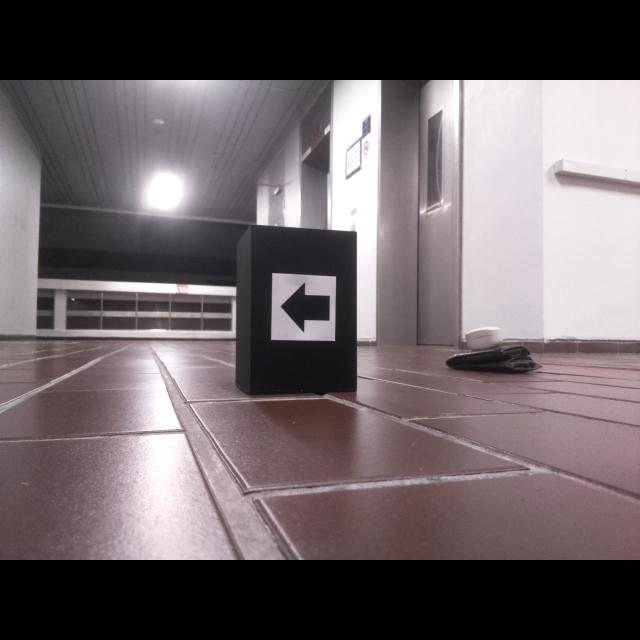LEFT: (279, 281, 330, 334)
